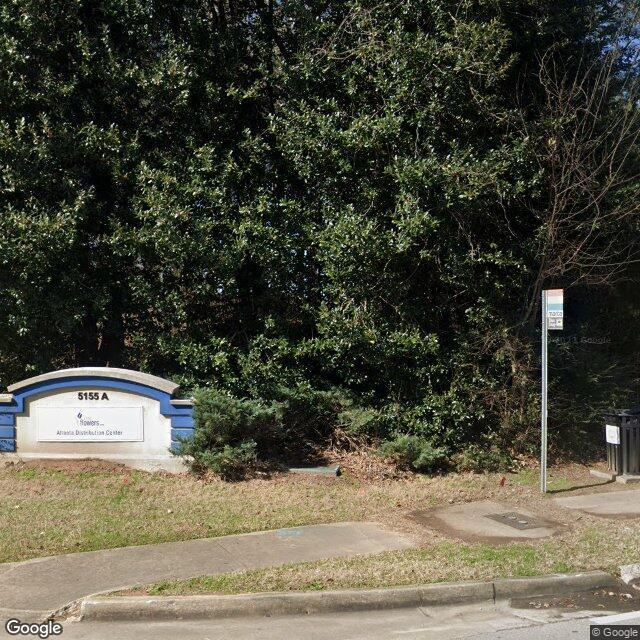trash_can: (598, 408, 640, 476)
